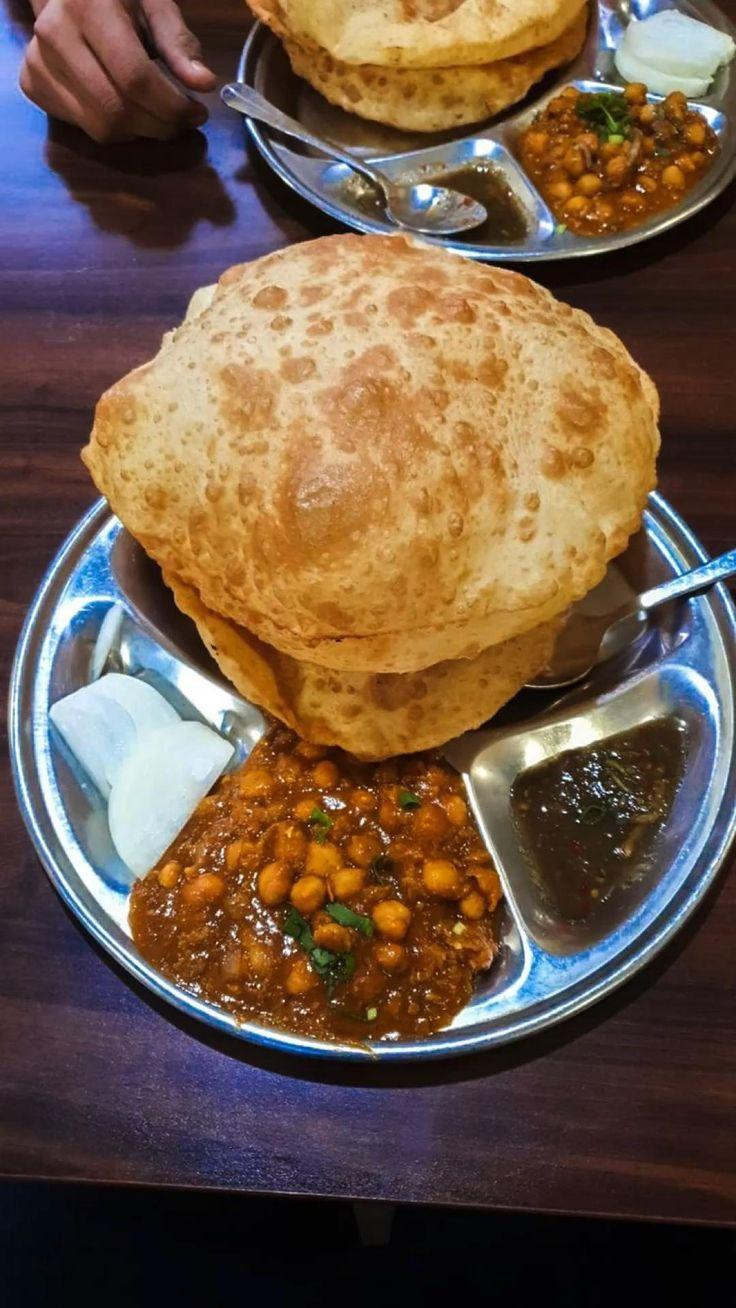chole: (220, 791, 479, 1003), (523, 94, 703, 234)
puri: (77, 254, 648, 681), (259, 0, 583, 108)
